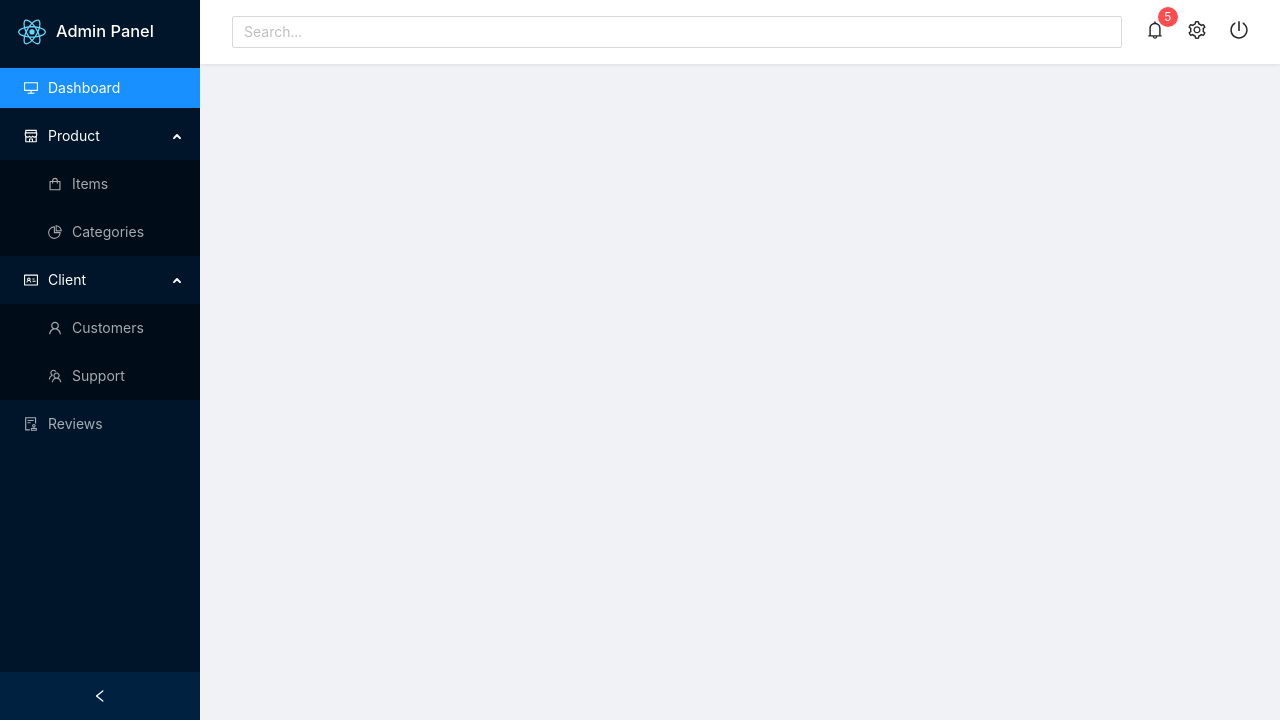
Test: sider can go to dashboard
Click the link "Dashboard": (84, 88) [48,79,120,96]
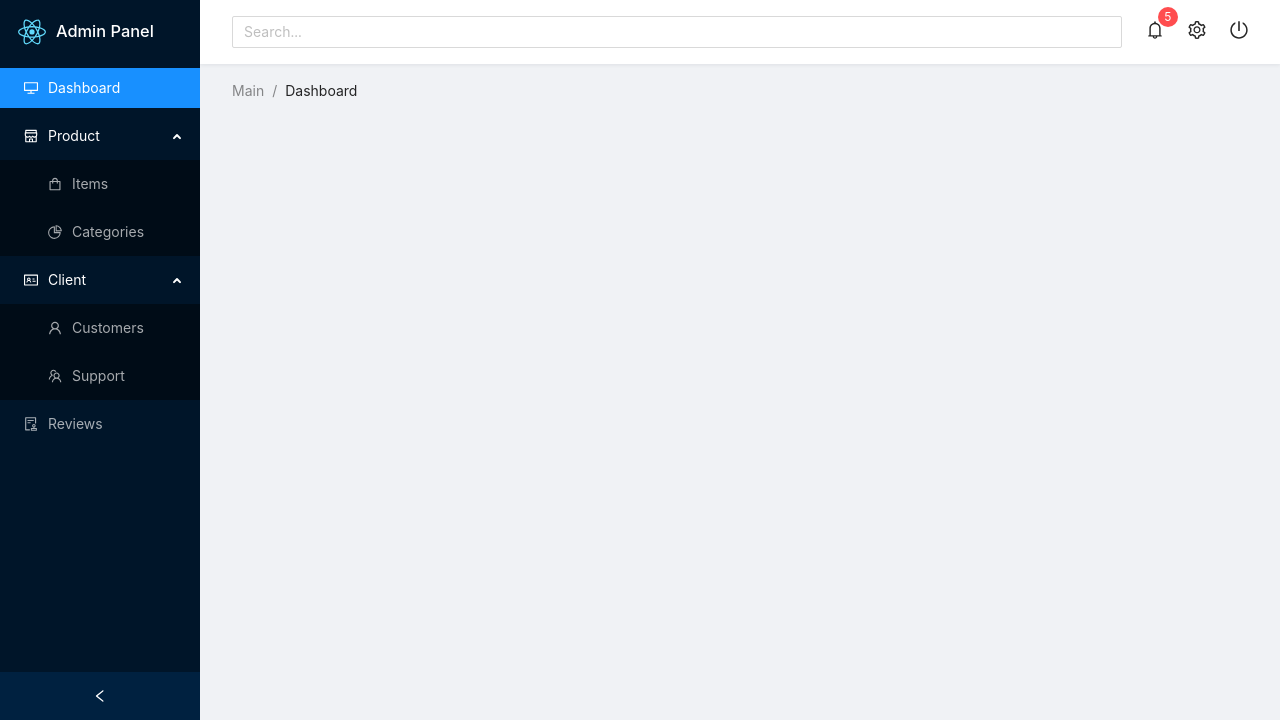
Expected: the text "Dashboard" is shown, [285,82,357,99]
